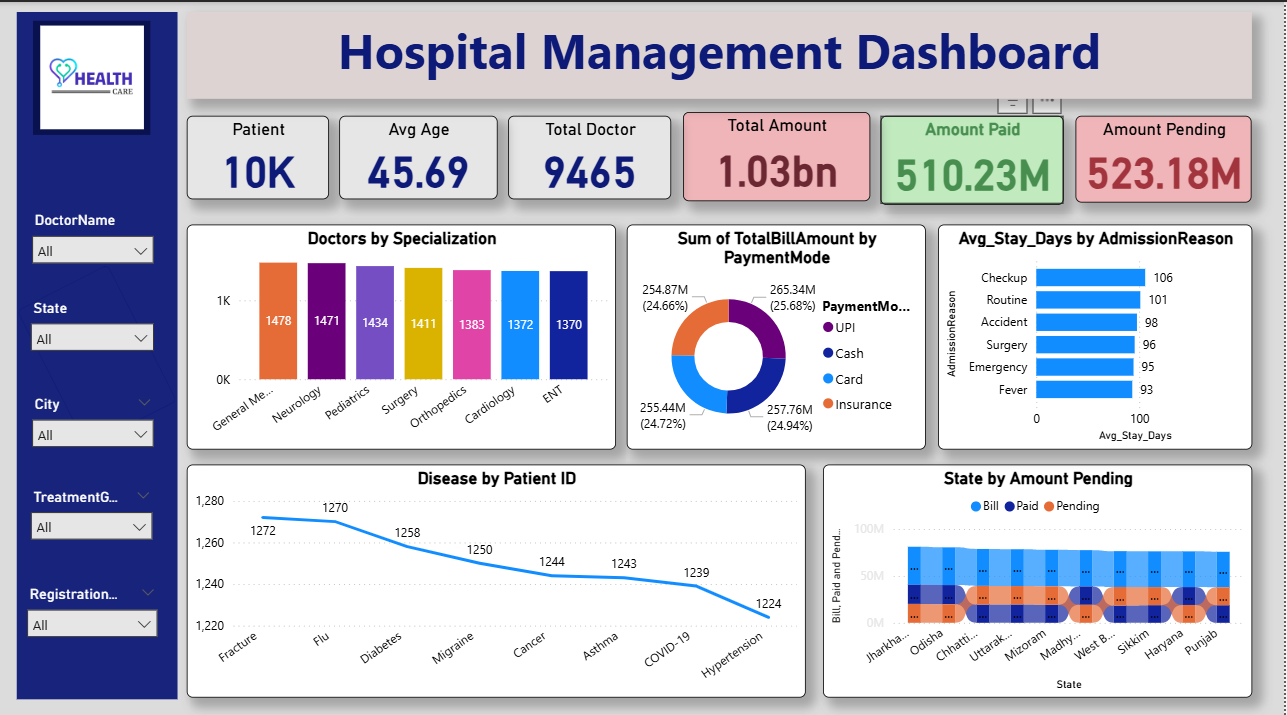

What the dashboard file says about the page in this screenshot:
{"tool":"powerbi","page":{"name":"Hospital_Management","canvas":[1280,720],"ordinal":0},"visuals":[{"type":"shape","box":[18.5,10,159.6,684.2],"z":0},{"type":"card","title":"Patient","fields":{"Values":["hospital hospital_management.Total_Patient"]},"box":[187.8,112.7,141.9,83.5],"z":1000},{"type":"card","title":"Amount Paid","fields":{"Values":["hospital hospital_management.Amount_Paid"]},"box":[877.9,112.7,182.3,89],"z":2000},{"type":"card","title":"Total Amount","fields":{"Values":["hospital hospital_management.Total_amount"]},"box":[681.7,109.9,186.4,89],"z":3000},{"type":"card","title":"Total Doctor","fields":{"Values":["hospital hospital_management.Total_doctor"]},"box":[507.8,112.7,162.8,83.5],"z":4000},{"type":"card","title":"Avg Age","fields":{"Values":["hospital hospital_management.Avg_Age"]},"box":[339.5,112.7,157.2,83.5],"z":5000},{"type":"card","title":"Amount Pending","fields":{"Values":["hospital hospital_management.Amount_Pending"]},"box":[1072.7,112.7,175.3,86.3],"z":6000},{"type":"columnChart","title":"Doctors by Specialization ","fields":{"Y":["Count(hospital hospital_management.DoctorName)"],"Category":["hospital hospital_management.Specialization"],"Series":["hospital hospital_management.Specialization"]},"box":[187.8,221.2,427.1,224],"z":7000},{"type":"donutChart","fields":{"Category":["hospital hospital_management.PaymentMode"],"Y":["Sum(hospital hospital_management.TotalBillAmount)"]},"box":[626.1,221.2,297.7,224],"z":8000},{"type":"lineChart","title":" Disease by Patient ID","fields":{"Category":["hospital hospital_management.Disease"],"Y":["CountNonNull(hospital hospital_management.PatientID)"]},"box":[188.2,460.4,615.8,232.3],"z":9000},{"type":"ribbonChart","title":" State by Amount Pending","fields":{"Category":["hospital hospital_management.State"],"Y":["Sum(hospital hospital_management.TotalBillAmount)","Sum(hospital hospital_management.AmountPaid)","hospital hospital_management.Amount_Pending"]},"box":[820.9,460.5,427.1,232.3],"z":10000},{"type":"slicer","fields":{"Values":["hospital hospital_management.TreatmentGiven"]},"box":[22.8,478.9,141.1,78.4],"z":11000},{"type":"slicer","fields":{"Values":["hospital hospital_management.RegistrationDate"]},"box":[18.5,575.9,149.7,81.2],"z":12000},{"type":"slicer","fields":{"Values":["hospital hospital_management.State"]},"box":[22.8,290.8,142.5,69.8],"z":13000},{"type":"slicer","fields":{"Values":["hospital hospital_management.City"]},"box":[24.2,386.3,141.1,69.8],"z":14000},{"type":"textbox","box":[187.8,9.7,1060.2,86.3],"z":15000},{"type":"clusteredBarChart","fields":{"Category":["hospital hospital_management.AdmissionReason"],"Y":["hospital hospital_management.Avg_Stay_Days"]},"box":[935,221.2,313,224],"z":16000},{"type":"slicer","fields":{"Values":["hospital hospital_management.DoctorName"]},"box":[24.2,203.8,141.1,69.8],"z":17000},{"type":"image","box":[34.8,18.7,116.9,113.2],"z":17001}]}

Visuals, with their boxes in screenshot pixels (x1, y1, x2, y2), scaled from the page's 1280x720 canvas onto the 1287x715 screenshot:
shape: (19, 10, 179, 689)
"Patient" card: (189, 112, 332, 195)
"Amount Paid" card: (883, 112, 1066, 200)
"Total Amount" card: (685, 109, 873, 198)
"Total Doctor" card: (511, 112, 674, 195)
"Avg Age" card: (341, 112, 499, 195)
"Amount Pending" card: (1079, 112, 1255, 198)
"Doctors by Specialization " columnChart: (189, 220, 618, 442)
donutChart - hospital hospital_management.PaymentMode x Sum(hospital hospital_management.TotalBillAmount): (630, 220, 929, 442)
" Disease by Patient ID" lineChart: (189, 457, 808, 688)
" State by Amount Pending" ribbonChart: (825, 457, 1255, 688)
slicer - hospital hospital_management.TreatmentGiven: (23, 476, 165, 553)
slicer - hospital hospital_management.RegistrationDate: (19, 572, 169, 653)
slicer - hospital hospital_management.State: (23, 289, 166, 358)
slicer - hospital hospital_management.City: (24, 384, 166, 453)
textbox: (189, 10, 1255, 95)
clusteredBarChart - hospital hospital_management.AdmissionReason x hospital hospital_management.Avg_Stay_Days: (940, 220, 1255, 442)
slicer - hospital hospital_management.DoctorName: (24, 202, 166, 272)
image: (35, 19, 153, 131)
